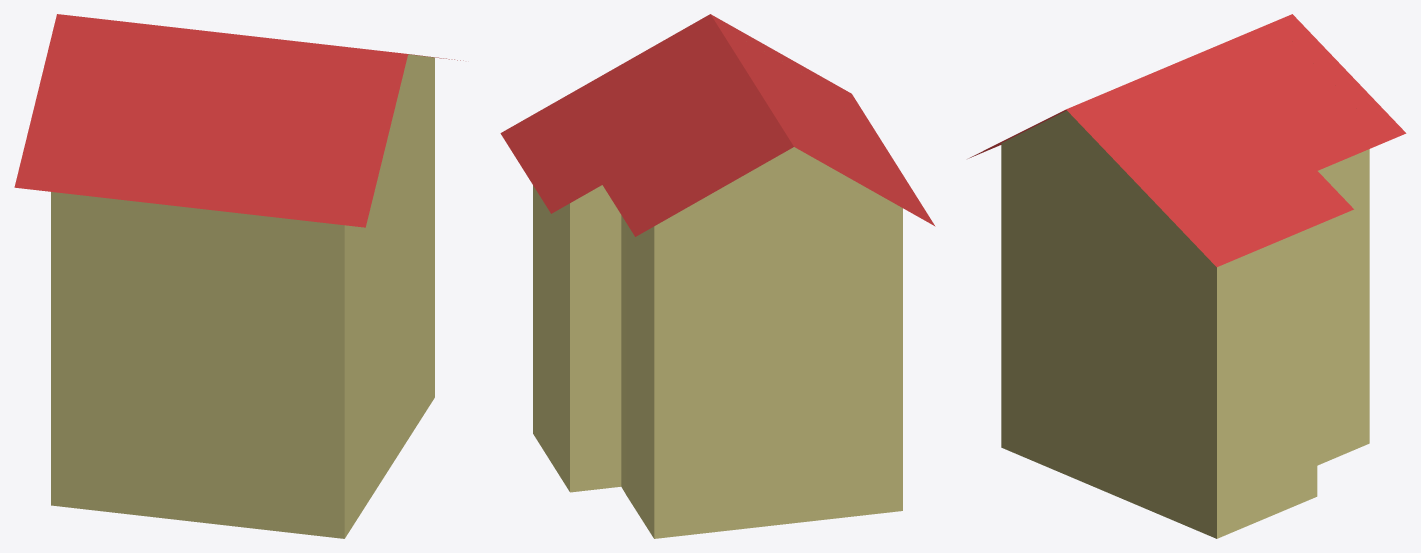
3 views of the same model, side by side, from view 1: azimuth 30°, elevation 25°; view 2: azimuth 150°, elevation 25°; view 3: azimuth 270°, elevation 25° (orthographic). The views are drawn at different scales.
Visible parts, largest first — view 1: group_5, group_3, group_4; view 2: group_5, group_3, group_4; view 3: group_5, group_3, group_4.
Boxes of the visible parts, bbox=[...] form: group_5: bbox=[51, 54, 434, 538]; group_3: bbox=[14, 14, 381, 225]; group_4: bbox=[16, 51, 463, 227]; group_5: bbox=[533, 147, 902, 538]; group_3: bbox=[500, 14, 934, 225]; group_4: bbox=[551, 14, 934, 236]; group_5: bbox=[1001, 110, 1369, 538]; group_3: bbox=[968, 22, 1369, 266]; group_4: bbox=[1274, 14, 1406, 216].
Bounding box in the file's own units: 13.74 × 12.68 × 12.07.
